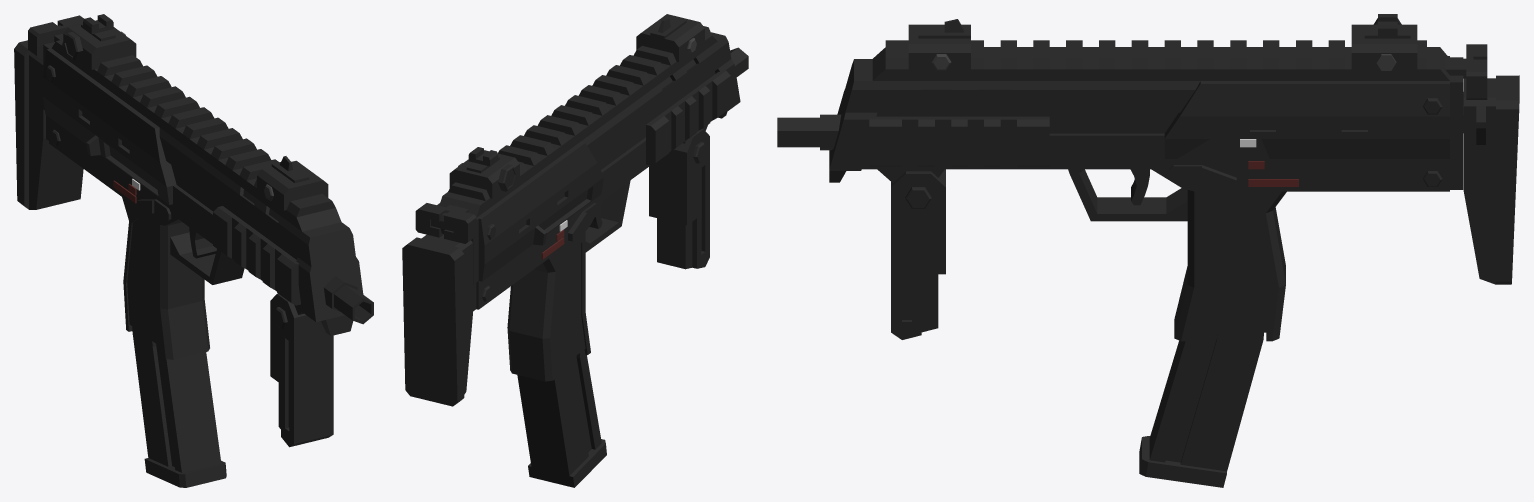
The model's file is SMG_A.fbx.
3 renders of one model, left to right at view 1: azimuth 30°, elevation 25°; view 2: azimuth 150°, elevation 25°; view 3: azimuth 270°, elevation 25°, orthographic. The views are drawn at different scales.
Visible parts, largest first — view 1: SMG_A_Receiver, SMG_A_Mag, SMG_A_ForwardGrip, SMG_A_Stock, SMG_A_Rail, SMG_A_Sight_Back, SMG_A_Sight_Front, SMG_A_Barrel, SMG_A_Bolt, SMG_A_Trigger; view 2: SMG_A_Receiver, SMG_A_Stock, SMG_A_Mag, SMG_A_ForwardGrip, SMG_A_Rail, SMG_A_Sight_Back, SMG_A_Sight_Front, SMG_A_Bolt; view 3: SMG_A_Receiver, SMG_A_Mag, SMG_A_Stock, SMG_A_Rail, SMG_A_ForwardGrip, SMG_A_Sight_Back, SMG_A_Sight_Front, SMG_A_Barrel, SMG_A_Bolt.
Boxes of the visible parts, x1,y1,x2,y2 form: SMG_A_Receiver: [43, 39, 363, 359]; SMG_A_Mag: [132, 326, 226, 487]; SMG_A_ForwardGrip: [270, 293, 333, 447]; SMG_A_Stock: [14, 40, 83, 209]; SMG_A_Rail: [213, 206, 300, 305]; SMG_A_Sight_Back: [63, 14, 136, 69]; SMG_A_Sight_Front: [257, 156, 328, 210]; SMG_A_Barrel: [324, 276, 373, 324]; SMG_A_Bolt: [28, 15, 83, 58]; SMG_A_Trigger: [189, 227, 216, 258]; SMG_A_Receiver: [437, 26, 740, 381]; SMG_A_Stock: [402, 234, 472, 406]; SMG_A_Mag: [517, 350, 606, 487]; SMG_A_ForwardGrip: [649, 129, 709, 269]; SMG_A_Rail: [646, 70, 730, 165]; SMG_A_Sight_Back: [449, 147, 519, 198]; SMG_A_Sight_Front: [636, 14, 704, 61]; SMG_A_Bolt: [415, 203, 476, 243]; SMG_A_Receiver: [829, 40, 1463, 341]; SMG_A_Mag: [1139, 332, 1263, 487]; SMG_A_Stock: [1463, 75, 1519, 284]; SMG_A_Rail: [869, 116, 1049, 166]; SMG_A_ForwardGrip: [891, 169, 945, 339]; SMG_A_Sight_Back: [1351, 14, 1417, 70]; SMG_A_Sight_Front: [908, 19, 970, 70]; SMG_A_Barrel: [777, 114, 841, 150]; SMG_A_Bolt: [1445, 44, 1487, 99].
Bounding box in the file's own units: 0.0707 × 0.3827 × 0.5655.
